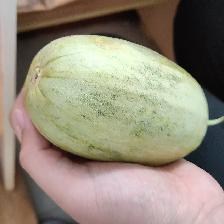gua: (35, 43, 195, 154)
